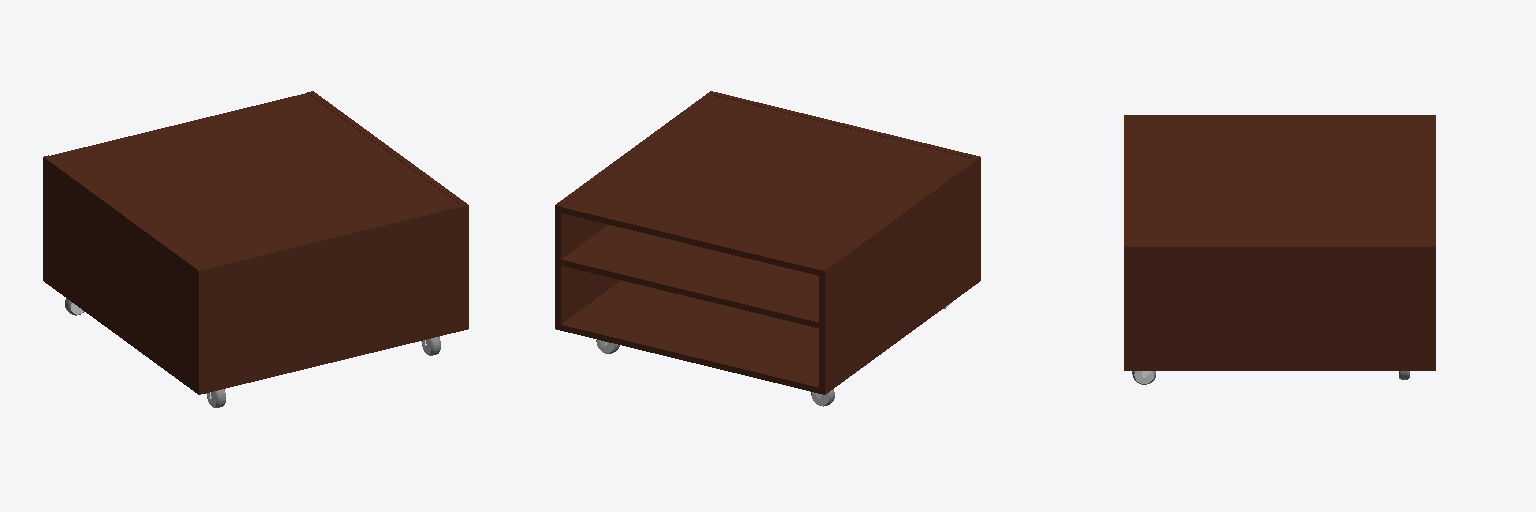
3 renders of one model, left to right at view 1: azimuth 30°, elevation 25°; view 2: azimuth 150°, elevation 25°; view 3: azimuth 270°, elevation 25°, orthographic.
Parts seen in each view (by area): view 1: Mesh4 Group4 Model, Mesh6 Group6 Model, Mesh3 Group3 Model, Mesh1 Group1 Model, Mesh2 Group2 Model; view 2: Mesh4 Group4 Model, Mesh3 Group3 Model, Mesh1 Group1 Model, Mesh5 Group5 Model, Mesh2 Group2 Model, Mesh6 Group6 Model; view 3: Mesh4 Group4 Model, Mesh2 Group2 Model, Mesh1 Group1 Model, Mesh6 Group6 Model, Mesh3 Group3 Model.
Boxes of the visible parts, x1=… form: Mesh4 Group4 Model: x1=50, y1=93, x2=457, y2=266; Mesh6 Group6 Model: x1=196, y1=203, x2=468, y2=388; Mesh3 Group3 Model: x1=43, y1=155, x2=200, y2=386; Mesh1 Group1 Model: x1=43, y1=275, x2=468, y2=394; Mesh2 Group2 Model: x1=307, y1=91, x2=465, y2=203; Mesh4 Group4 Model: x1=561, y1=95, x2=970, y2=275; Mesh3 Group3 Model: x1=819, y1=158, x2=977, y2=388; Mesh1 Group1 Model: x1=555, y1=275, x2=980, y2=394; Mesh5 Group5 Model: x1=561, y1=225, x2=818, y2=327; Mesh2 Group2 Model: x1=555, y1=93, x2=712, y2=324; Mesh6 Group6 Model: x1=708, y1=91, x2=980, y2=276; Mesh4 Group4 Model: x1=1131, y1=118, x2=1435, y2=243; Mesh2 Group2 Model: x1=1131, y1=244, x2=1435, y2=364; Mesh1 Group1 Model: x1=1124, y1=365, x2=1435, y2=370; Mesh6 Group6 Model: x1=1124, y1=115, x2=1130, y2=364; Mesh3 Group3 Model: x1=1131, y1=115, x2=1435, y2=117.
Bounding box in the file's own units: 0.6619 × 0.3519 × 0.6619.